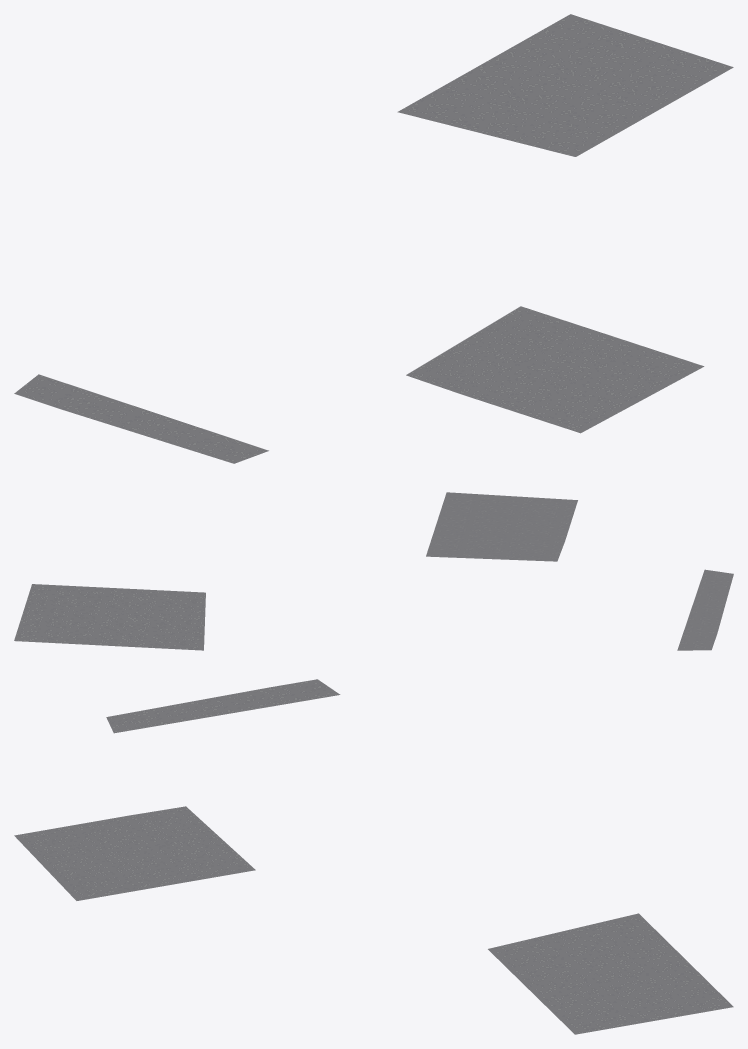
Rendered from kd_stage_136599_16_21.glb.
3 renders of one model, top to bottom at view 1: azimuth 30°, elevation 25°; view 2: azimuth 150°, elevation 25°; view 3: azimuth 270°, elevation 25°, orthographic. The views are drawn at different scales.
Parts seen in each view (by area): view 1: kd_stage_136599_16_21; view 2: kd_stage_136599_16_21; view 3: kd_stage_136599_16_21.
Boxes of the visible parts, box(x1,y1,x2,y2) form: kd_stage_136599_16_21: box(14, 14, 733, 463); kd_stage_136599_16_21: box(14, 492, 733, 650); kd_stage_136599_16_21: box(14, 679, 733, 1034).
Bounding box in the file's own units: 34.26 × 0 × 29.32.
Materials: 1 (1 with a texture image).
